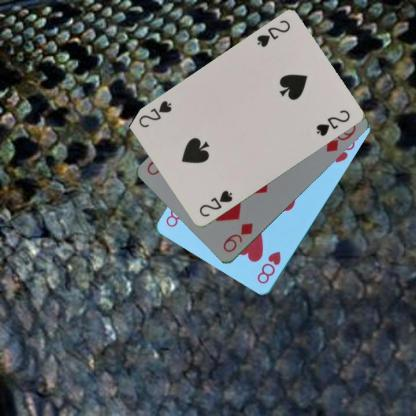2s: (254, 17, 292, 49), (196, 188, 234, 219)
8h: (254, 249, 283, 286)
9d: (220, 221, 254, 254)
